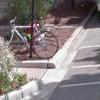Tree: (7, 0, 60, 26)
